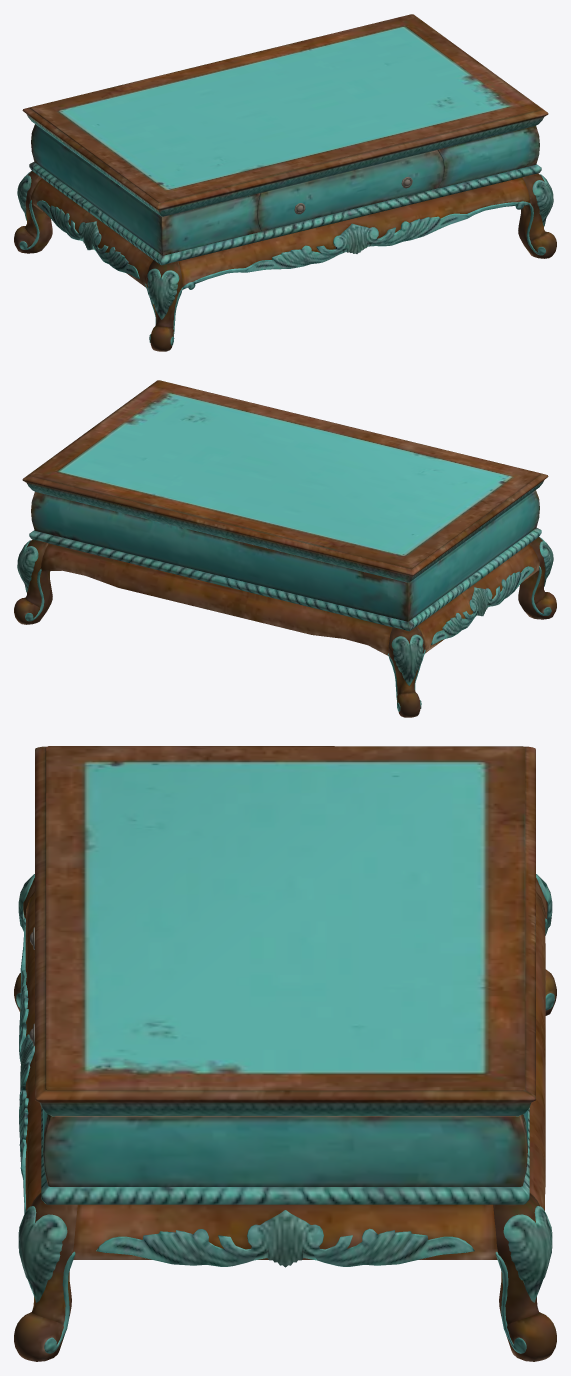
File: coffeetable_01.glb
3 views of the same model, one above another, from view 1: azimuth 30°, elevation 25°; view 2: azimuth 150°, elevation 25°; view 3: azimuth 270°, elevation 25° (orthographic). The views are drawn at different scales.
Parts seen in each view (by area): view 1: CoffeeTable_01; view 2: CoffeeTable_01; view 3: CoffeeTable_01.
Boxes of the visible parts, left/top/right/bottom form: CoffeeTable_01: left=14, top=14, right=556, bottom=351; CoffeeTable_01: left=14, top=380, right=556, bottom=717; CoffeeTable_01: left=14, top=746, right=556, bottom=1361.
Size of the model in its own units: 1.54 by 0.5232 by 0.9728.
Materials: 1 (1 with a texture image).
